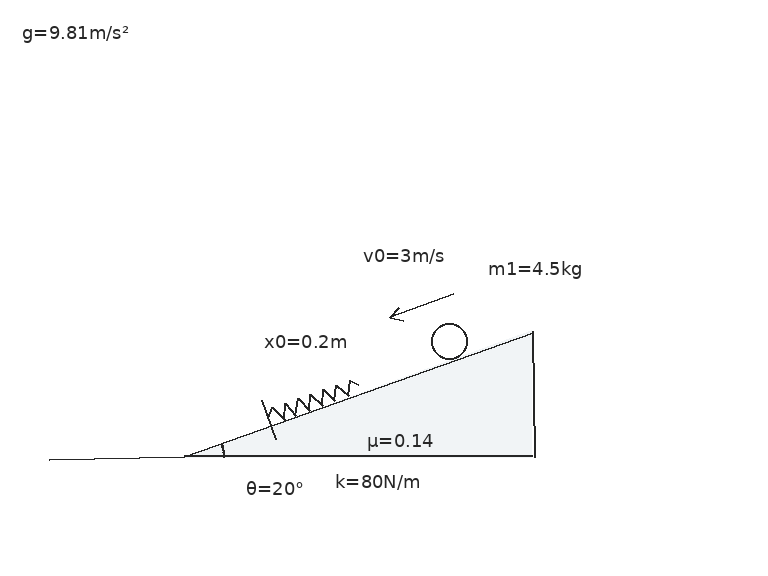ball: (429, 321, 469, 361)
ramp: (182, 328, 534, 459)
spring: (266, 378, 360, 421)
